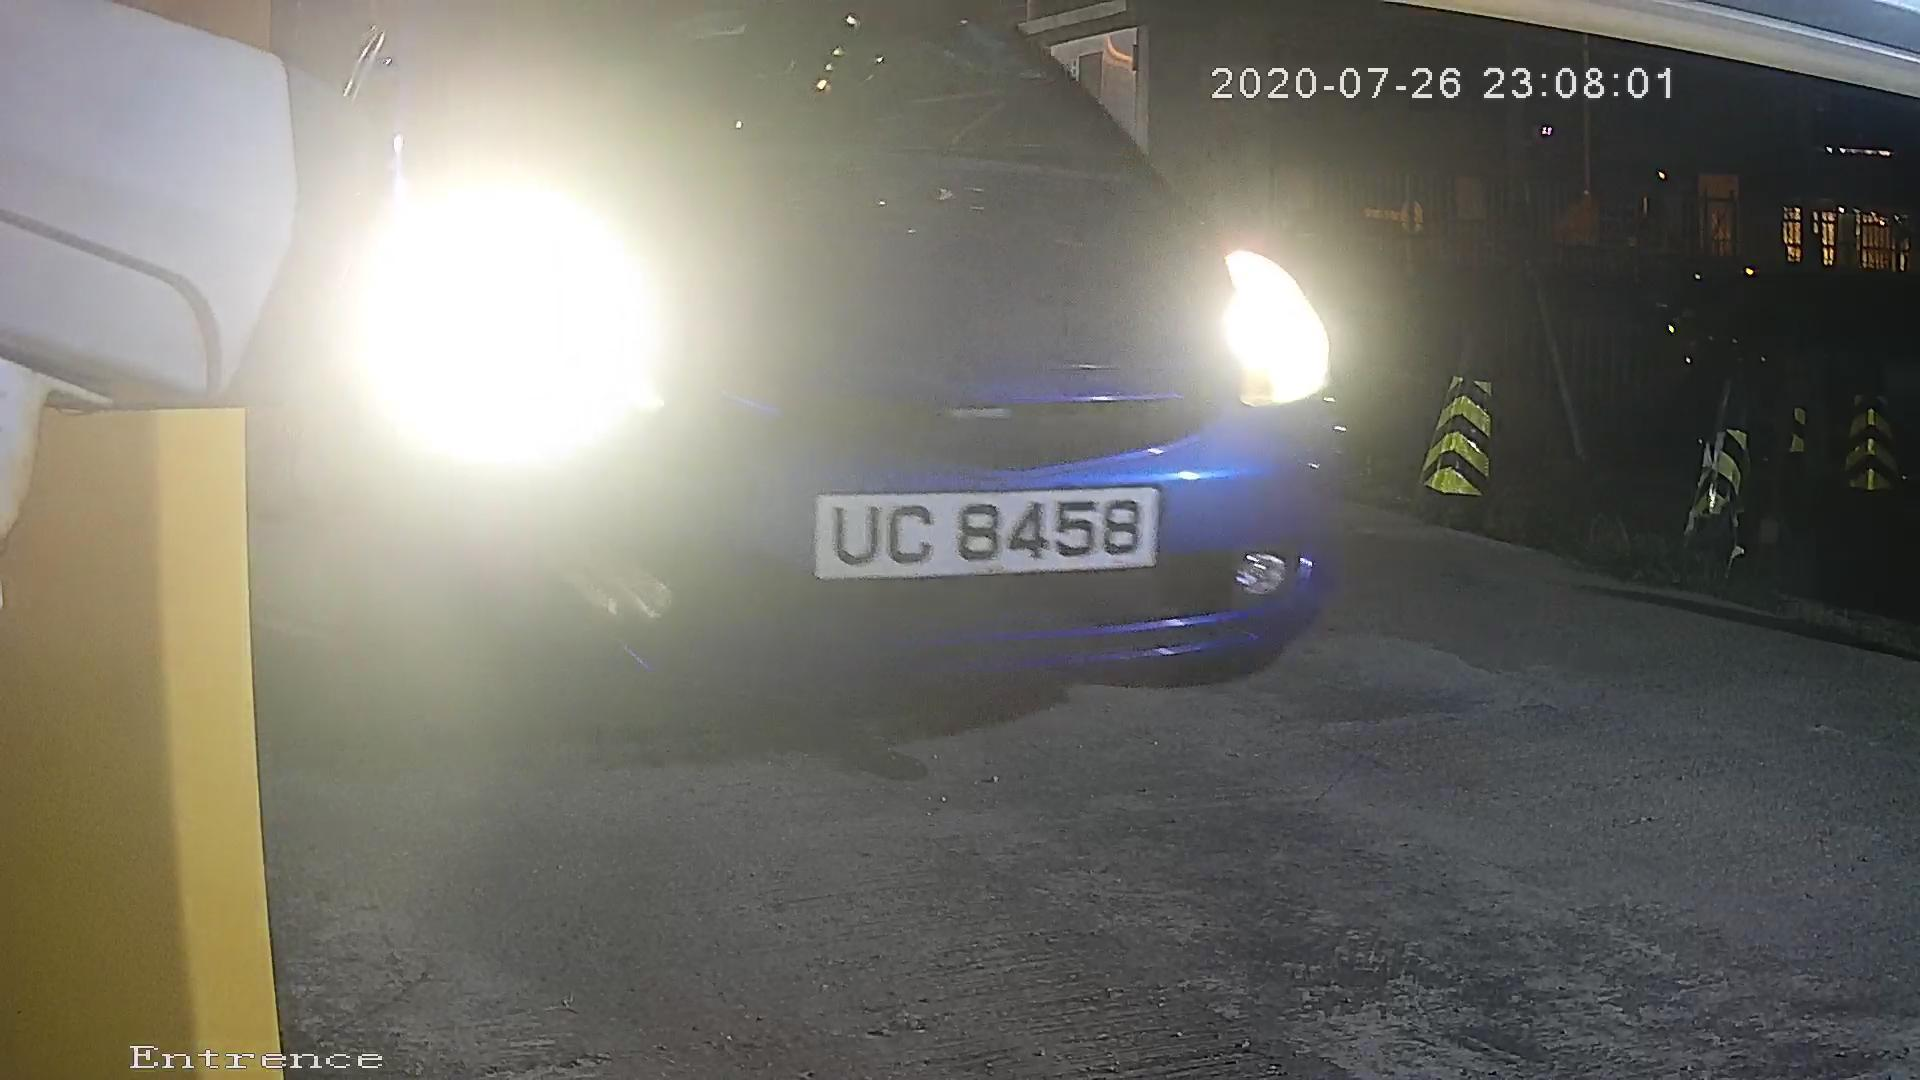Car: (43, 58, 1621, 806)
License Plate: (772, 463, 1183, 594)
